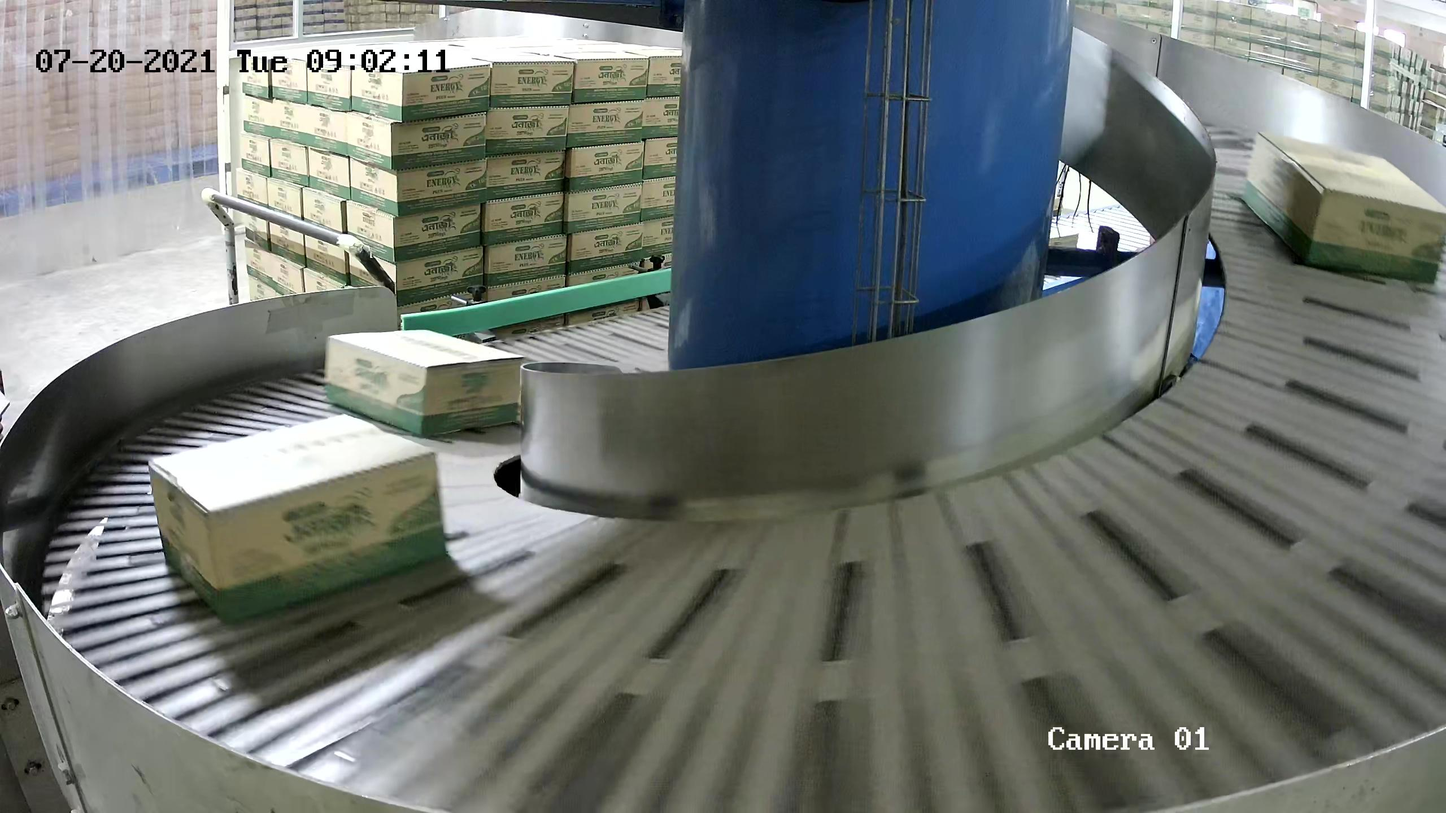Box: (146, 410, 451, 620), (1239, 128, 1446, 285), (323, 326, 526, 440)
